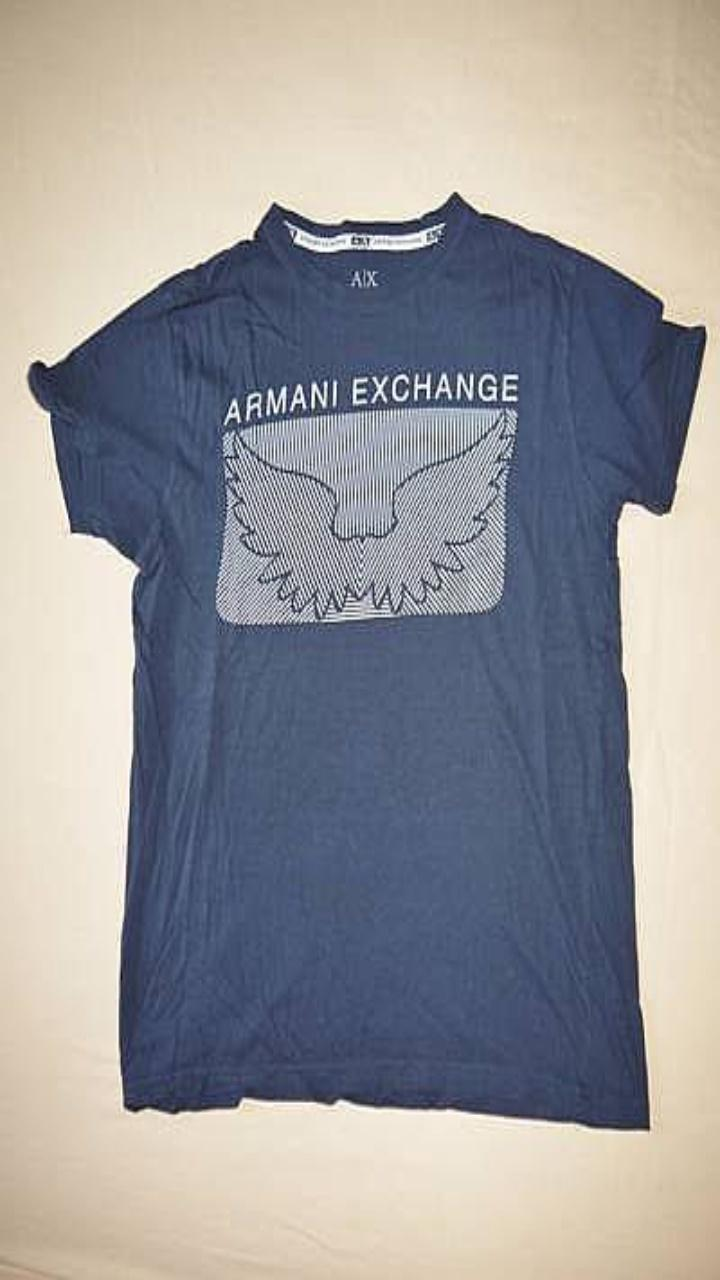T-Shirt: (27, 192, 705, 1128)
